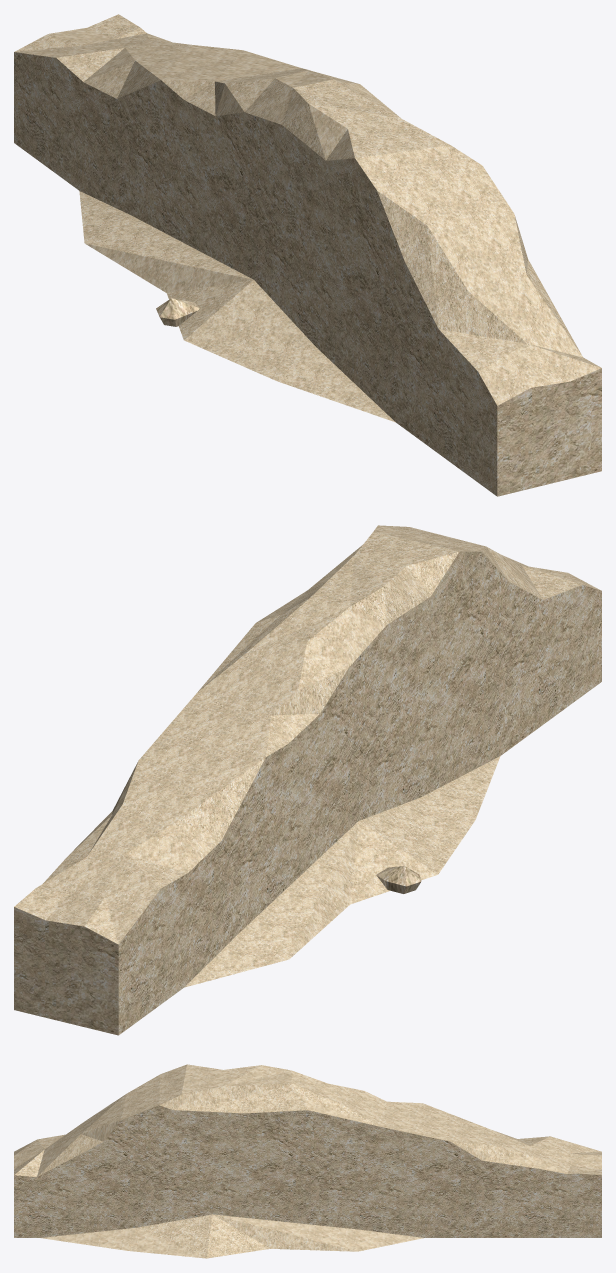
File: thm_tato_imprv_wall_sml_ruin_s01_l0.fbx
3 views of the same model, one above another, from view 1: azimuth 30°, elevation 25°; view 2: azimuth 150°, elevation 25°; view 3: azimuth 270°, elevation 25° (orthographic). The views are drawn at different scales.
Parts seen in each view (by area): view 1: mesh_node; view 2: mesh_node; view 3: mesh_node.
Boxes of the visible parts, x1=… form: mesh_node: x1=14, y1=14, x2=601, y2=496; mesh_node: x1=14, y1=525, x2=601, y2=1035; mesh_node: x1=14, y1=1064, x2=601, y2=1258.
Size of the model in its own units: 1.21 by 1.1 by 4.
